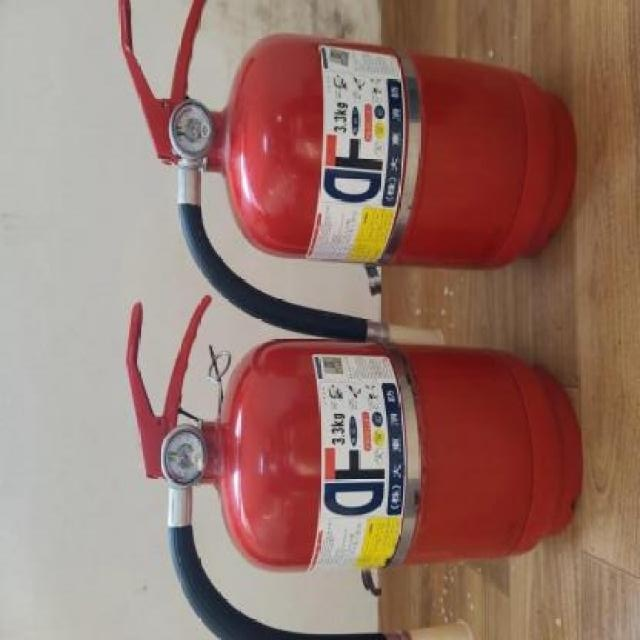fire extinguisher: (116, 0, 579, 345), (125, 295, 584, 640)
